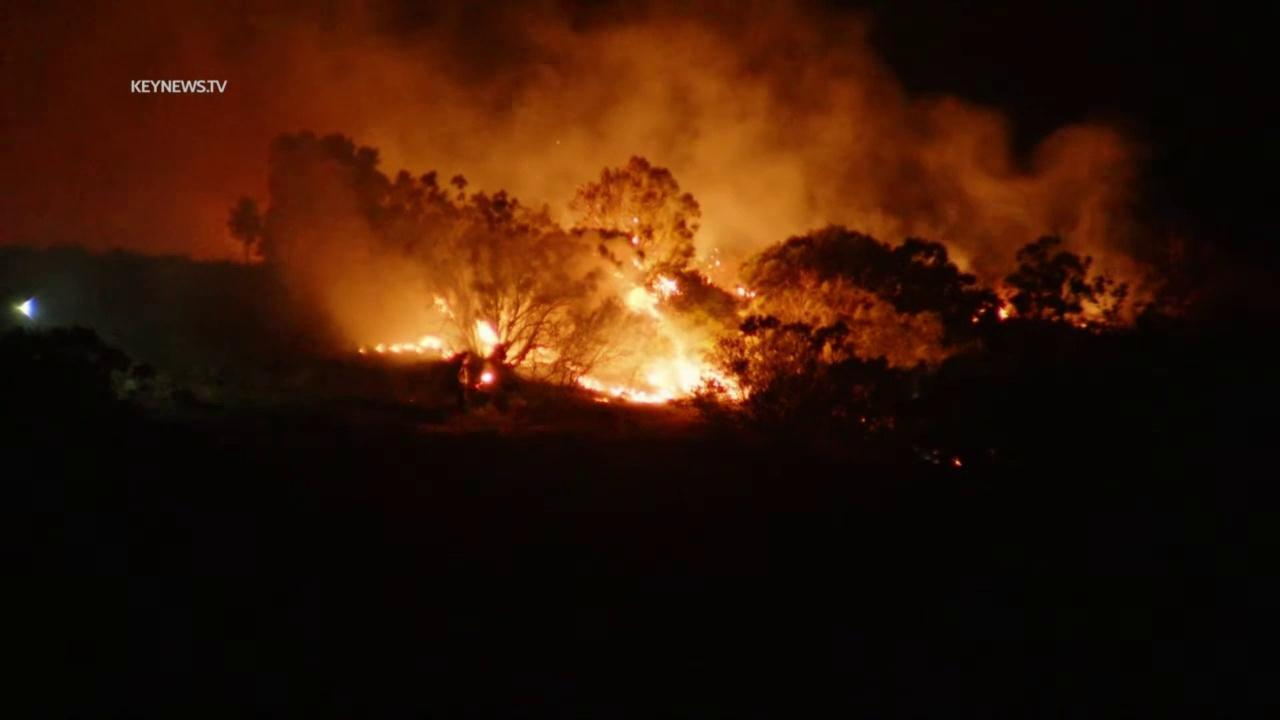fire: (575, 323, 752, 405), (372, 333, 457, 360), (474, 320, 502, 350), (435, 295, 458, 322), (654, 275, 683, 296), (735, 286, 758, 300), (477, 369, 497, 385), (995, 307, 1009, 322), (630, 233, 641, 245), (970, 314, 981, 324), (952, 458, 963, 467), (358, 346, 367, 354)
smoke: (0, 0, 1176, 411)
